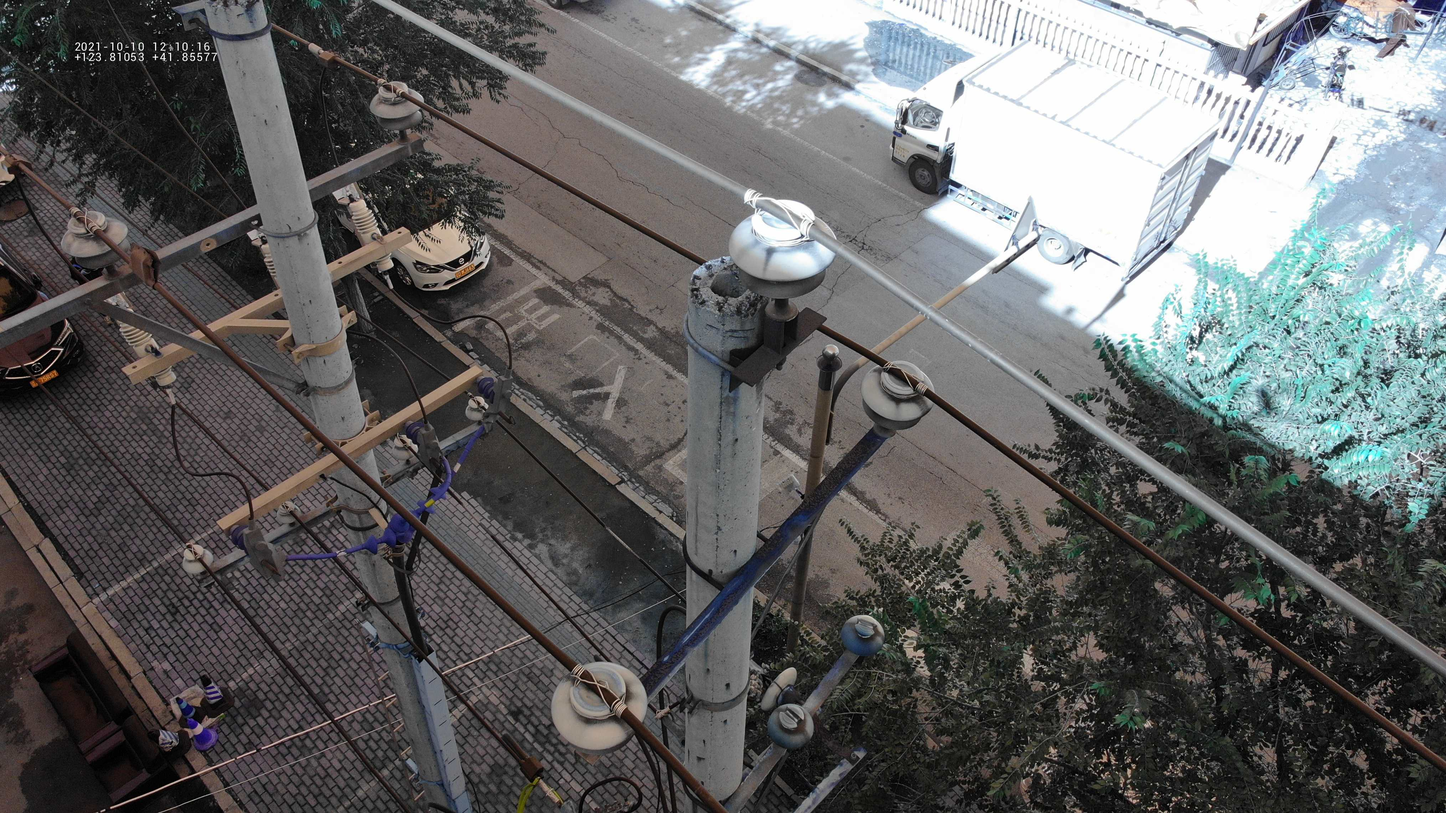severe_soiling_no_discharge_whole: (728, 196, 845, 302), (856, 357, 941, 432), (764, 702, 818, 751), (754, 664, 804, 713), (837, 615, 888, 657)
